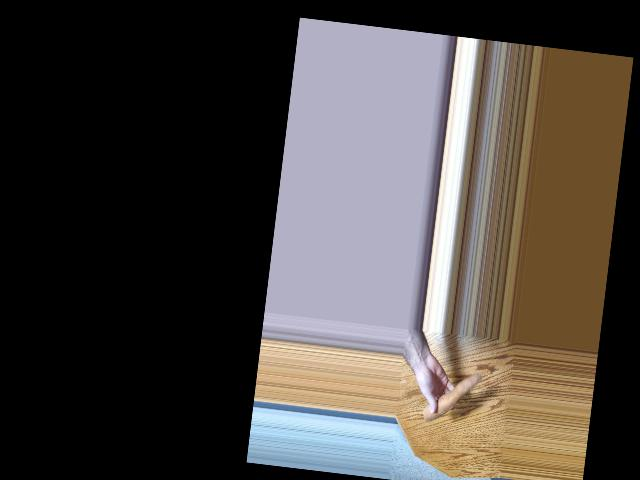sweet_potato: (421, 368, 481, 425)
